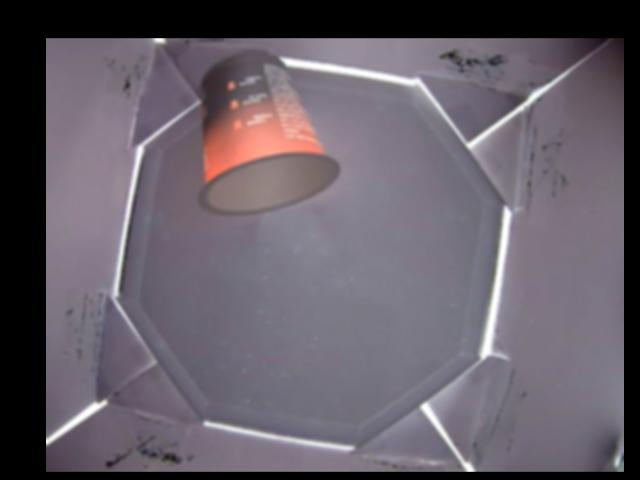Cup: (196, 48, 340, 219)
